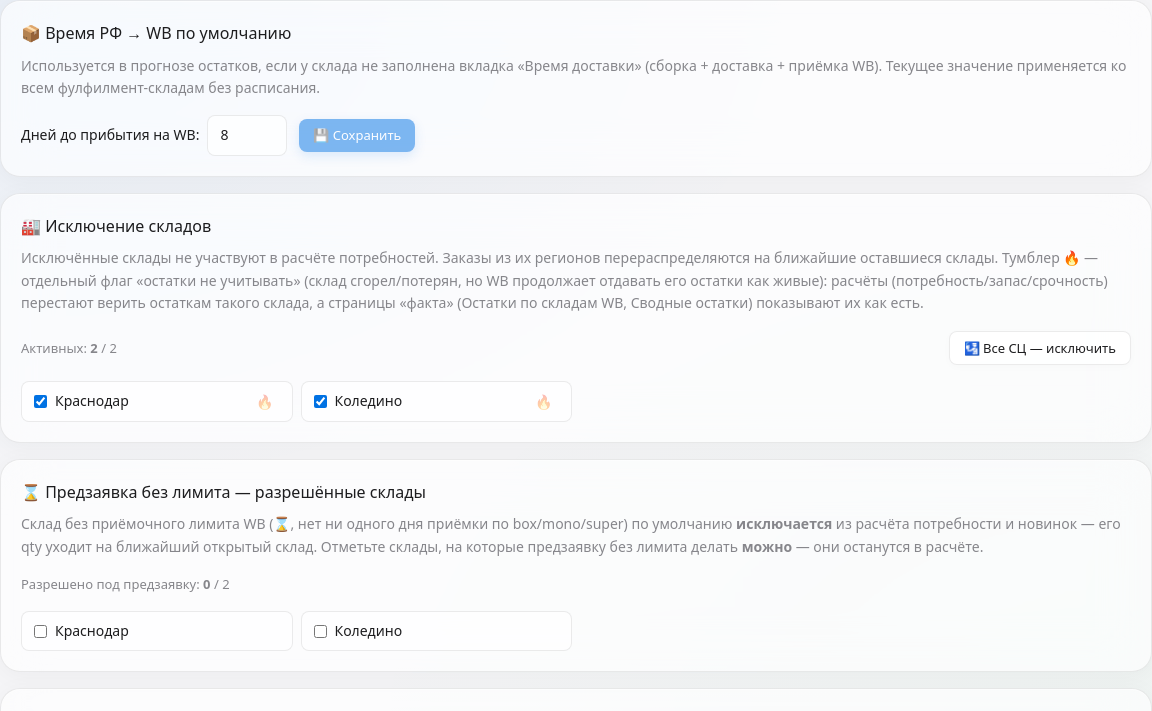
WarehouseExclusionSettings — 🔥 остатки не учитывать › клик по 🔥 НЕ флипает excluded-чекбокс склада
This screenshot has width=1152, height=711.
Click the 1st button titled "Остатки не учитывать (сгорел/потерян)" at point(264, 402), box [248,392,280,412]
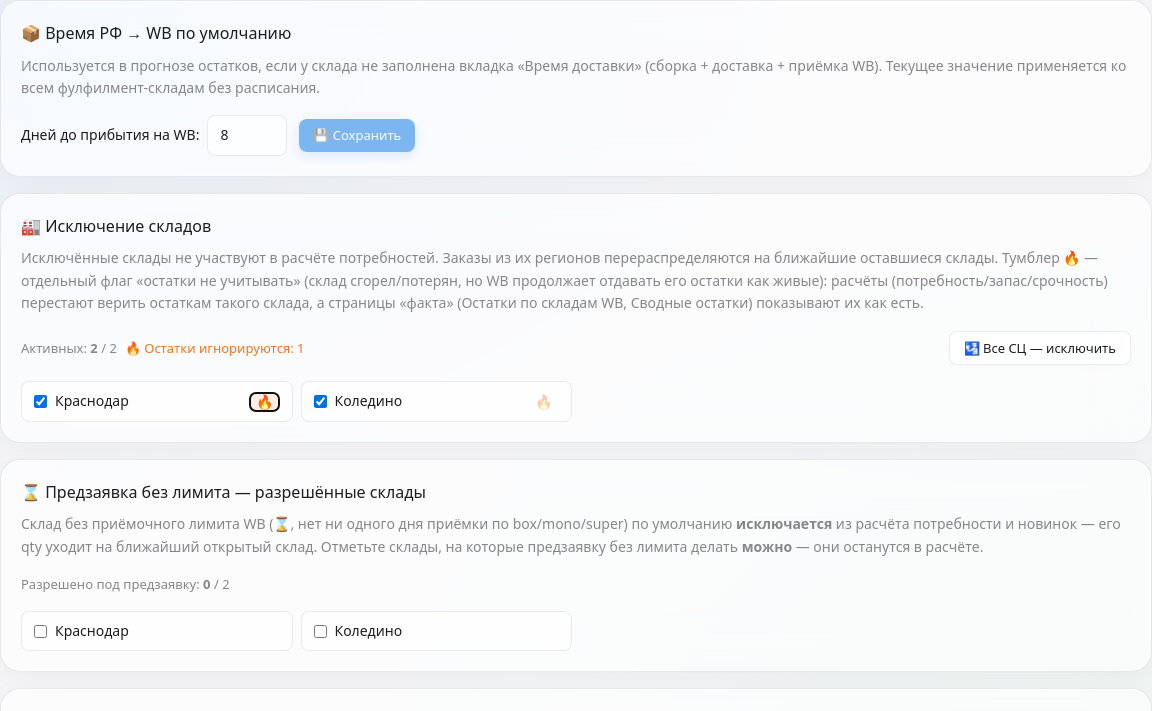
Now the text "🔥 Остатки игнорируются: 1" is shown, box [125,338,304,358]
